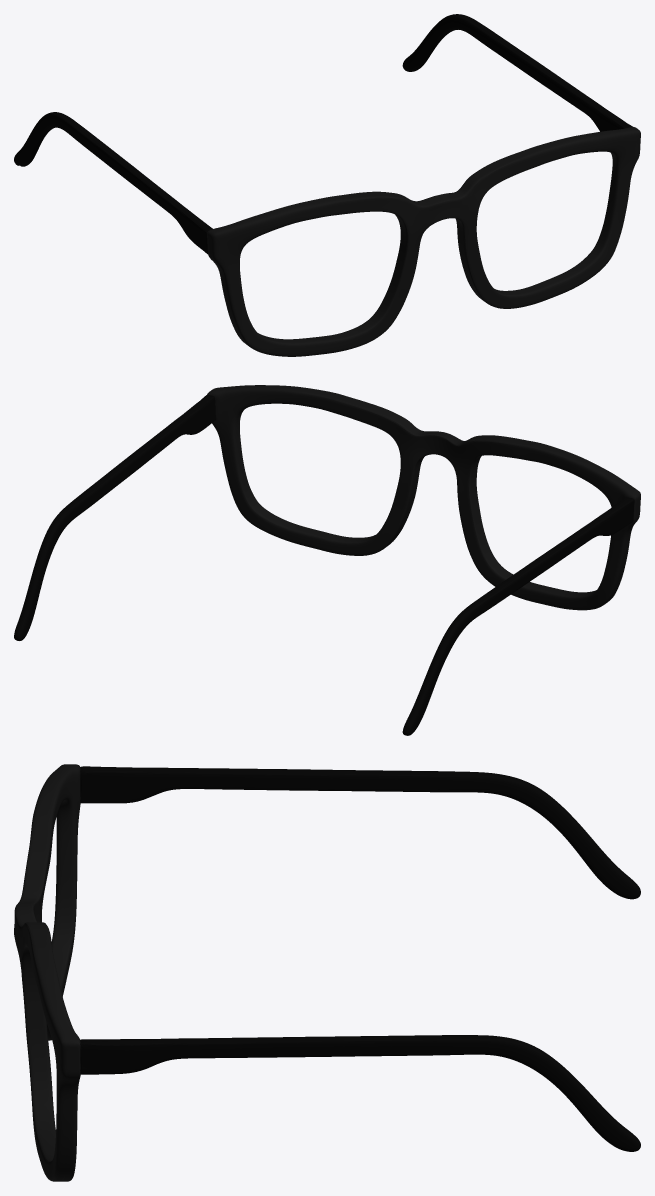
File: glasses-optimized.glb
The picture shows the model from 3 angles, top to bottom: view 1: azimuth 30°, elevation 25°; view 2: azimuth 150°, elevation 25°; view 3: azimuth 270°, elevation 25°; orthographic projection. The views are drawn at different scales.
Visible parts, largest first — view 1: Frame_1_5, Handles_2_7; view 2: Frame_1_5, Handles_2_7; view 3: Handles_2_7, Frame_1_5.
Boxes of the visible parts, bbox=[...] form: Frame_1_5: bbox=[207, 127, 640, 356]; Handles_2_7: bbox=[14, 14, 632, 254]; Frame_1_5: bbox=[207, 385, 640, 610]; Handles_2_7: bbox=[14, 394, 634, 735]; Handles_2_7: bbox=[80, 766, 640, 1151]; Frame_1_5: bbox=[14, 764, 80, 1181].
Size of what is drawn, in the model's own units: 2.02 by 0.693 by 1.92.
Materials: 2 (1 with a texture image).
